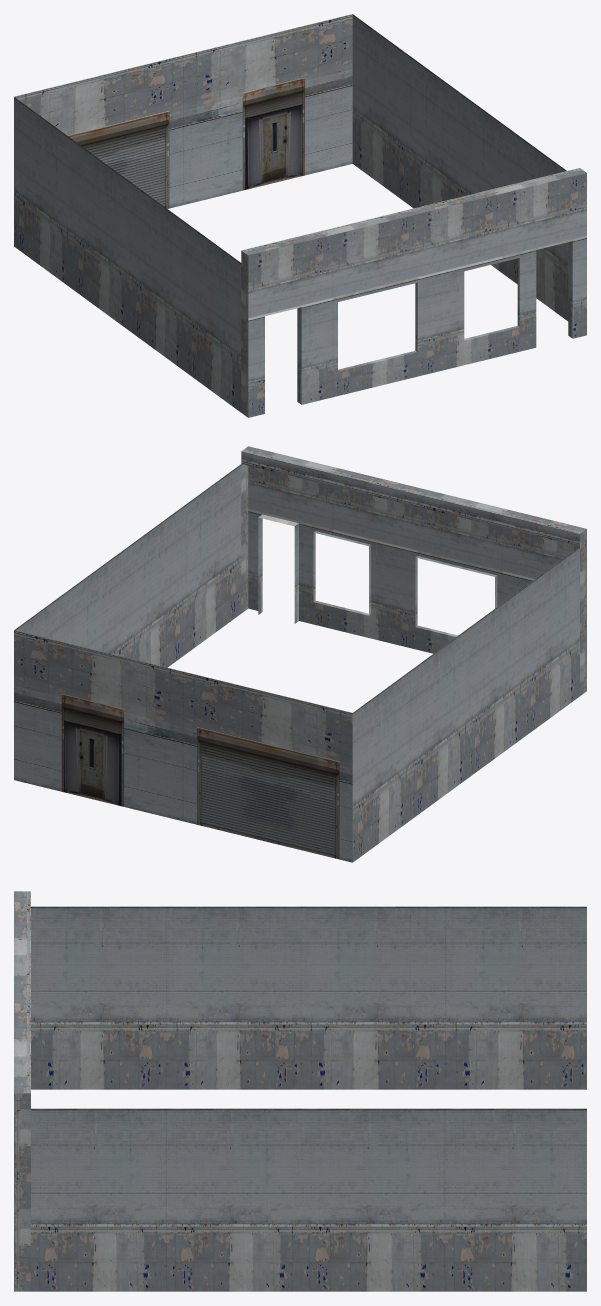
The model's file is rural_storesmall_6_rural_midcity_facade_flr_2_0_lev2.glb.
3 renders of one model, top to bottom at view 1: azimuth 30°, elevation 25°; view 2: azimuth 150°, elevation 25°; view 3: azimuth 270°, elevation 25°, orthographic. The views are drawn at different scales.
Parts seen in each view (by area): view 1: rural_storesmall_6_rural_midcity_facade_flr_2_0_lev2; view 2: rural_storesmall_6_rural_midcity_facade_flr_2_0_lev2; view 3: rural_storesmall_6_rural_midcity_facade_flr_2_0_lev2.
Part boxes in pixels (x1,y1,x2,y2): rural_storesmall_6_rural_midcity_facade_flr_2_0_lev2: (14,14,586,417); rural_storesmall_6_rural_midcity_facade_flr_2_0_lev2: (14,446,586,862); rural_storesmall_6_rural_midcity_facade_flr_2_0_lev2: (14,891,586,1291).
Bounding box in the file's own units: 11.86 × 5.43 × 14.2.
Materials: 1 (1 with a texture image).
